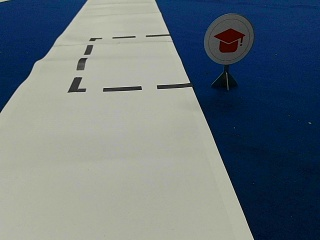school: (204, 14, 254, 63)
